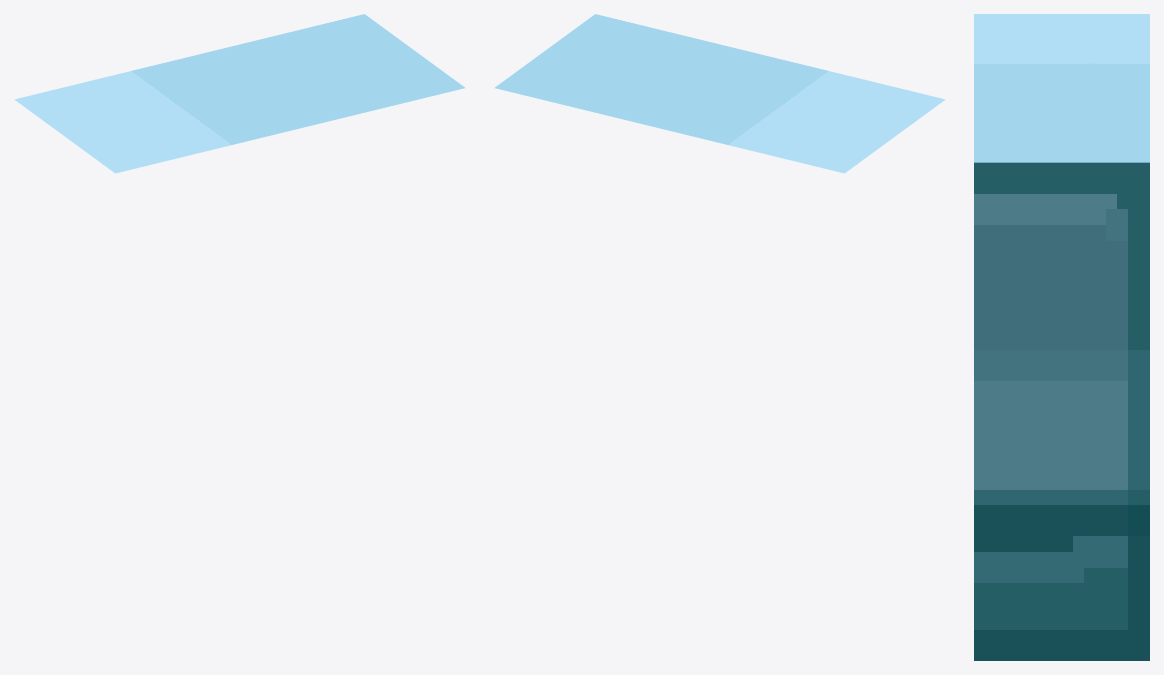
Rendered from hgss-centre-b1-mur-ouest-profil-1.glb.
3 renders of one model, left to right at view 1: azimuth 30°, elevation 25°; view 2: azimuth 150°, elevation 25°; view 3: azimuth 270°, elevation 25°, orthographic. The views are drawn at different scales.
Bounding box in the file's own units: 2 × 3.12 × 1.
Materials: 2 (2 with a texture image).
